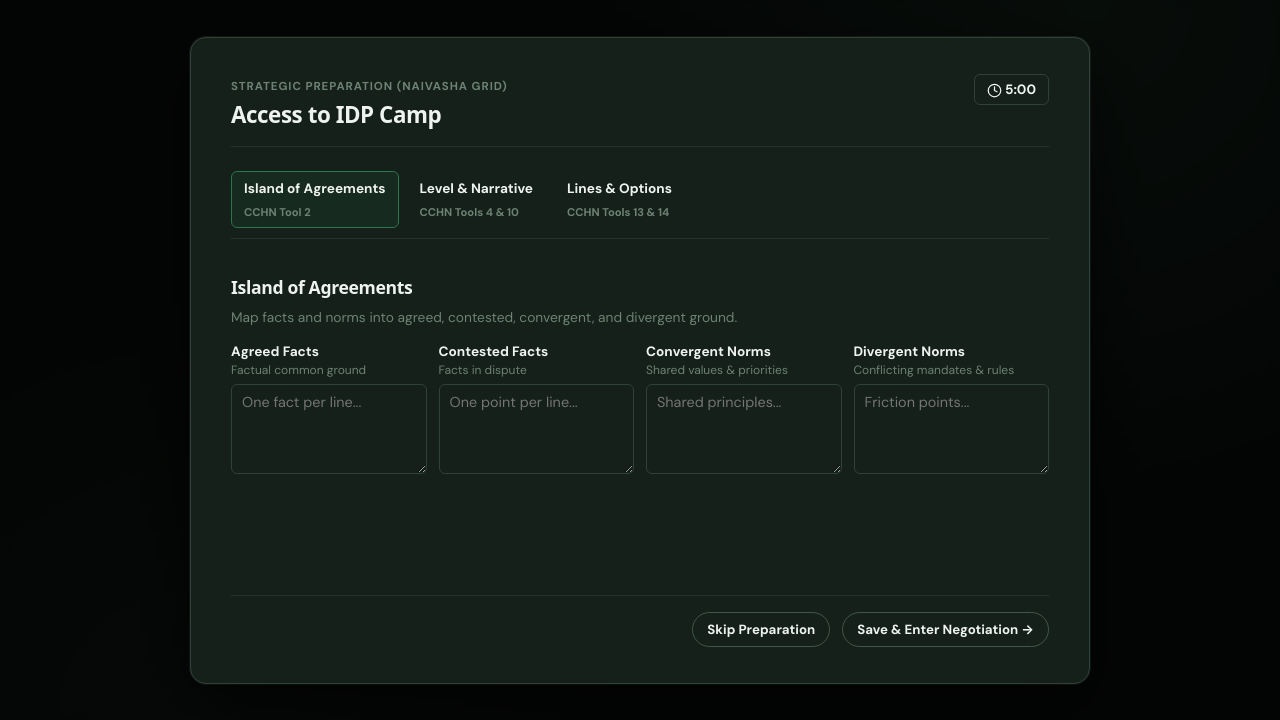
Test: PreparationView › switches tabs to show Level & Narrative fields
The image size is (1280, 720).
Step 1. Click the button "Level & Narrative CCHN Tools 4 & 10" → (476, 199), box [407,170,546,228]
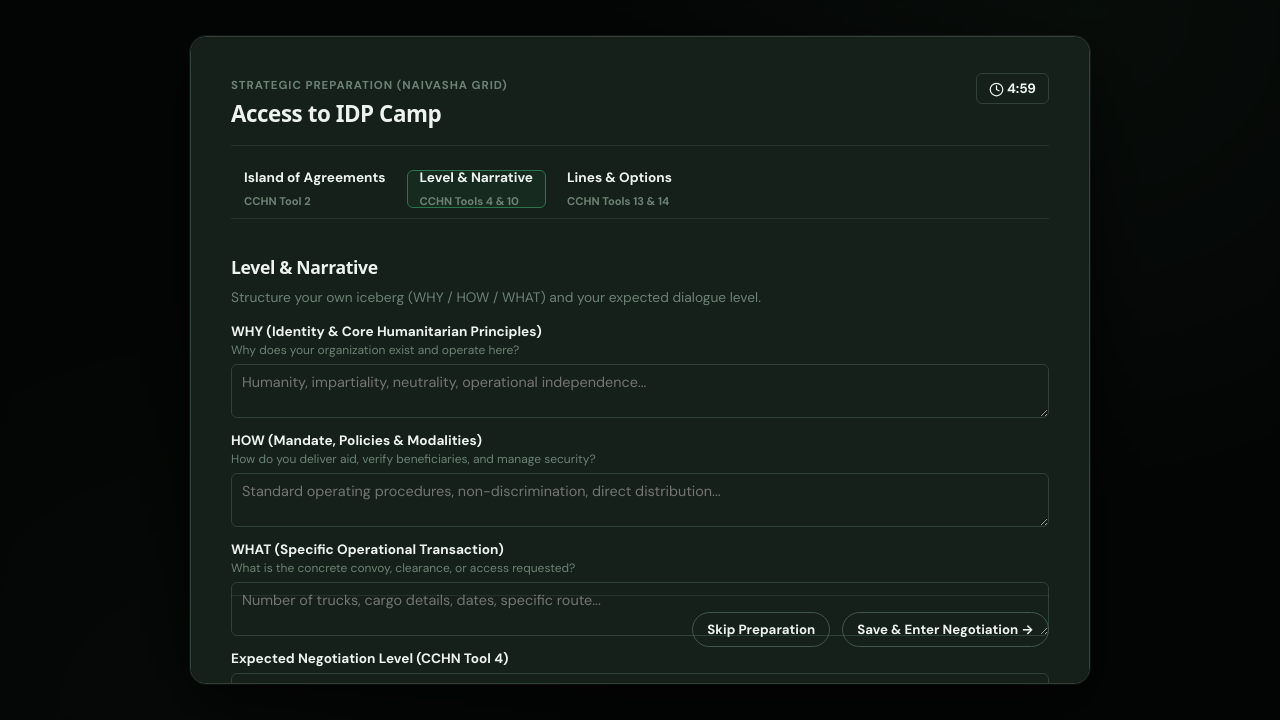
Expected: the text box labelled "WHY (Identity & Core Humanitarian Principles)" is shown, [231,364,1049,418]
Expected: the text box labelled "HOW (Mandate, Policies & Modalities)" is shown, [231,473,1049,527]
Expected: the text box labelled "WHAT (Specific Operational Transaction)" is shown, [231,582,1049,636]
